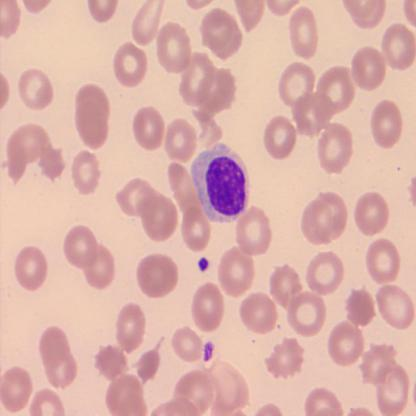Myelocyte: (193, 147, 252, 223)
